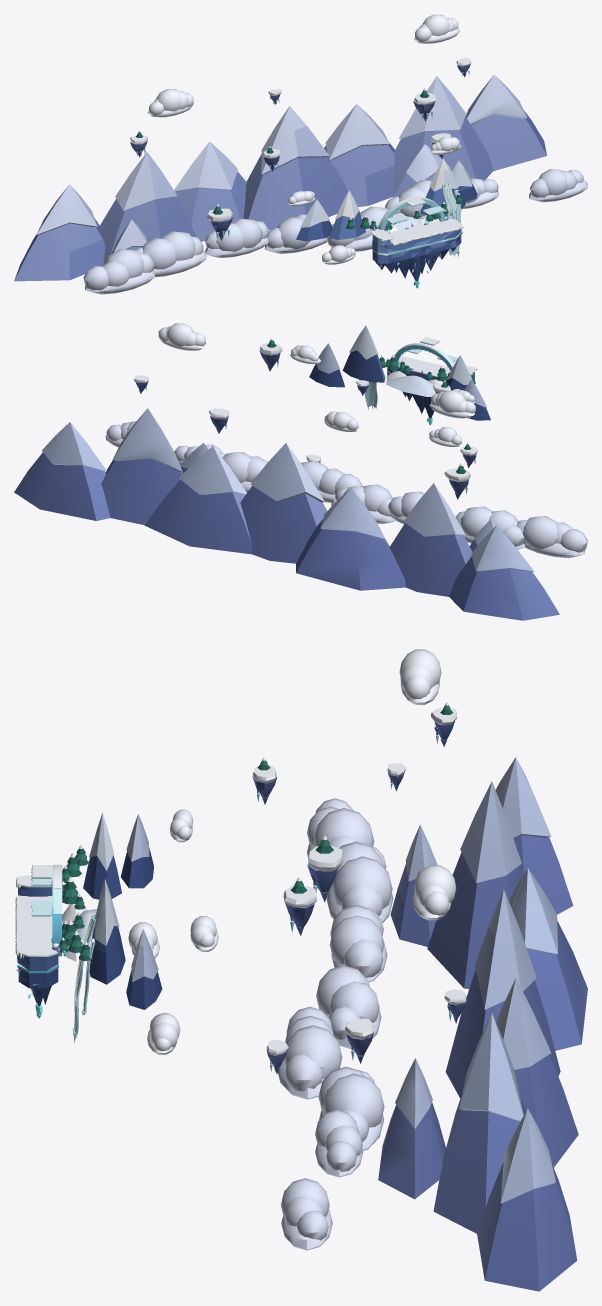
File: FrozenPeaks.fbx
3 renders of one model, top to bottom at view 1: azimuth 30°, elevation 25°; view 2: azimuth 150°, elevation 25°; view 3: azimuth 270°, elevation 25°, orthographic. The views are drawn at different scales.
Parts seen in each view (by area): view 1: SceneryFar, SceneryClouds, SceneryNear, Stage, StageTrim, Pines, Waterfall, Arch, Platforms; view 2: SceneryFar, SceneryClouds, SceneryNear, StageTrim, Stage, Pines, Arch; view 3: SceneryFar, SceneryClouds, SceneryNear, StageTrim, Pines, Stage, Waterfall, Arch, Platforms.
Boxes of the visible parts, x1,y1,x2,y2 form: SceneryFar: [14, 57, 546, 281]; SceneryClouds: [83, 14, 587, 294]; SceneryNear: [296, 159, 477, 241]; Stage: [372, 229, 461, 281]; StageTrim: [371, 218, 463, 272]; Pines: [346, 192, 462, 230]; Waterfall: [442, 182, 463, 257]; Arch: [378, 197, 445, 229]; Platforms: [386, 198, 445, 224]; SceneryFar: [14, 338, 559, 620]; SceneryClouds: [105, 323, 587, 558]; SceneryNear: [309, 325, 490, 420]; StageTrim: [389, 356, 477, 377]; Stage: [387, 367, 474, 418]; Pines: [379, 354, 475, 383]; Arch: [392, 343, 454, 371]; SceneryFar: [252, 702, 587, 1291]; SceneryClouds: [128, 649, 456, 1250]; SceneryNear: [52, 813, 162, 1009]; StageTrim: [15, 875, 57, 995]; Pines: [58, 845, 92, 960]; Stage: [17, 886, 58, 1006]; Waterfall: [72, 914, 95, 1043]; Arch: [52, 864, 62, 956]; Platforms: [30, 865, 52, 916].
Bounding box in the file's own units: 445 × 143 × 240.
1 material, 1 textured.
